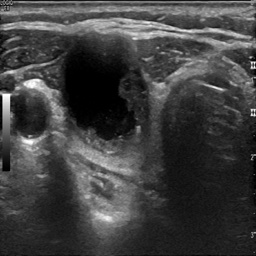mass: (63, 34, 148, 143)
